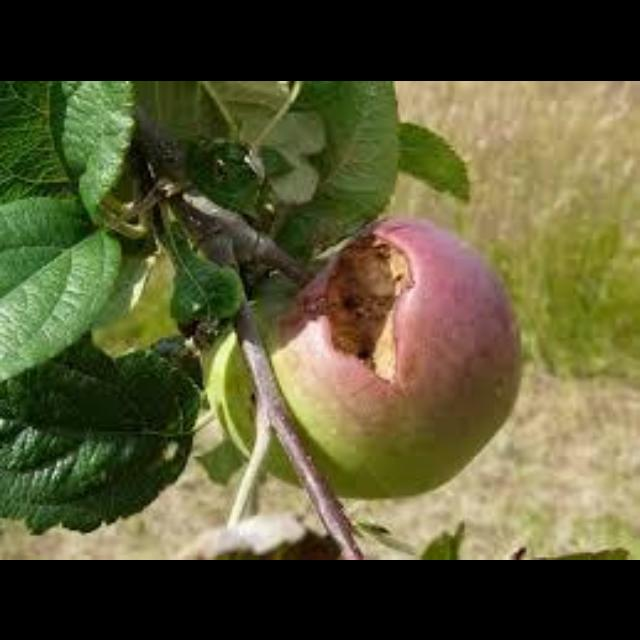apple: (257, 218, 519, 498), (208, 335, 252, 453)
pest: (308, 235, 417, 385)
